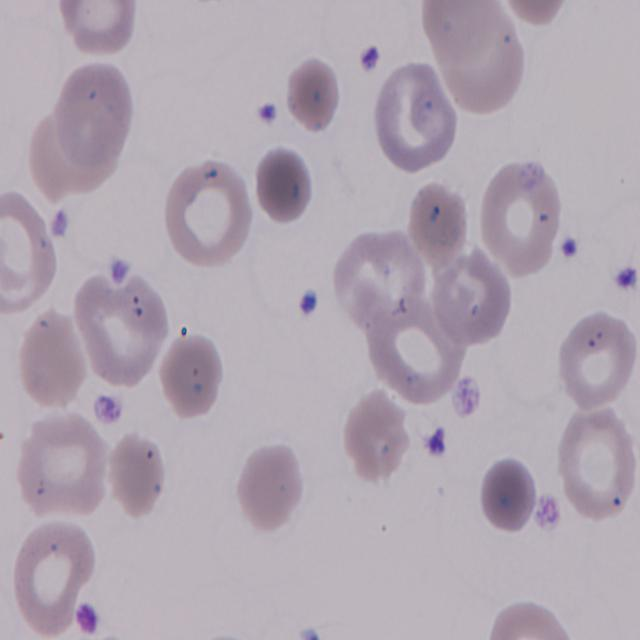Platelets: (299, 286, 323, 324)
RBC: (34, 59, 138, 204), (70, 266, 170, 390), (473, 156, 568, 280), (428, 1, 528, 116), (15, 407, 111, 522), (9, 514, 99, 634), (371, 54, 458, 178), (159, 159, 255, 270), (554, 401, 638, 523), (559, 308, 636, 416), (16, 308, 92, 412), (0, 187, 60, 310), (234, 439, 306, 532), (158, 330, 227, 424), (60, 0, 140, 60), (478, 599, 584, 640)
Spherocyte: (256, 145, 312, 223), (480, 458, 536, 532), (286, 56, 340, 131)
